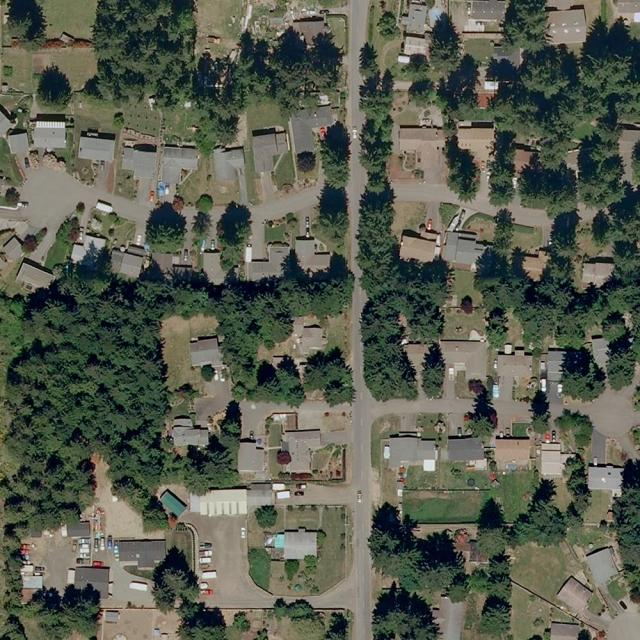building: (392, 125, 447, 183), (440, 338, 490, 399), (239, 239, 296, 283), (440, 336, 491, 382), (289, 225, 334, 276), (212, 146, 249, 207), (441, 227, 489, 273), (291, 105, 335, 154), (446, 524, 490, 572), (388, 431, 437, 471), (12, 257, 57, 300), (281, 428, 323, 474), (456, 121, 495, 169), (289, 4, 332, 47), (288, 313, 329, 358), (252, 126, 290, 173), (64, 227, 109, 266), (400, 220, 441, 262), (611, 122, 640, 181), (546, 5, 588, 45), (554, 575, 595, 615), (584, 545, 621, 588), (495, 343, 534, 383), (117, 539, 167, 570), (501, 137, 538, 177), (516, 242, 552, 282), (162, 145, 198, 185), (585, 461, 624, 497), (78, 128, 117, 164), (494, 436, 533, 471), (198, 489, 248, 516), (73, 564, 110, 599), (540, 441, 574, 479), (198, 246, 228, 288), (397, 340, 429, 379), (544, 347, 565, 403), (107, 249, 146, 279), (32, 114, 65, 149), (171, 416, 209, 446), (190, 335, 223, 369), (284, 529, 318, 560), (156, 488, 189, 519), (447, 435, 484, 461), (237, 439, 264, 473), (581, 262, 614, 287), (491, 44, 525, 68), (404, 2, 428, 35), (132, 150, 156, 179), (402, 33, 428, 57), (6, 128, 29, 154), (591, 335, 609, 368), (0, 104, 14, 137), (151, 253, 174, 273), (66, 521, 90, 538), (71, 242, 86, 263), (121, 147, 135, 169), (566, 148, 578, 169), (20, 564, 35, 576)
dryland: (501, 528, 582, 604), (162, 315, 218, 391)
greenland: (3, 248, 353, 537), (337, 43, 418, 403), (174, 1, 355, 146), (484, 39, 590, 175), (485, 274, 640, 350), (89, 0, 198, 106), (468, 477, 570, 559), (553, 406, 605, 527), (509, 149, 590, 224), (391, 254, 454, 345), (318, 121, 350, 246), (467, 550, 512, 638), (299, 346, 357, 410), (614, 459, 640, 598), (540, 207, 584, 289), (271, 599, 349, 640), (459, 386, 510, 444), (442, 132, 483, 203), (42, 210, 87, 273), (592, 185, 640, 244), (437, 54, 479, 115), (427, 12, 466, 77), (502, 0, 549, 53), (561, 348, 606, 402), (144, 201, 187, 255), (0, 290, 25, 373), (489, 131, 515, 206), (37, 63, 75, 109), (608, 332, 635, 389), (549, 209, 580, 258), (218, 201, 251, 246), (441, 569, 478, 608), (405, 74, 441, 111), (492, 208, 516, 257), (614, 240, 640, 274), (194, 192, 215, 215)
metalled_road: (345, 0, 376, 640), (4, 137, 154, 263), (178, 498, 274, 624), (226, 163, 326, 264), (371, 390, 473, 418), (241, 399, 291, 436), (504, 199, 555, 233), (391, 182, 461, 203), (307, 586, 356, 611), (299, 398, 348, 418), (492, 398, 531, 421), (468, 170, 489, 212), (591, 428, 606, 464), (574, 202, 597, 225)
